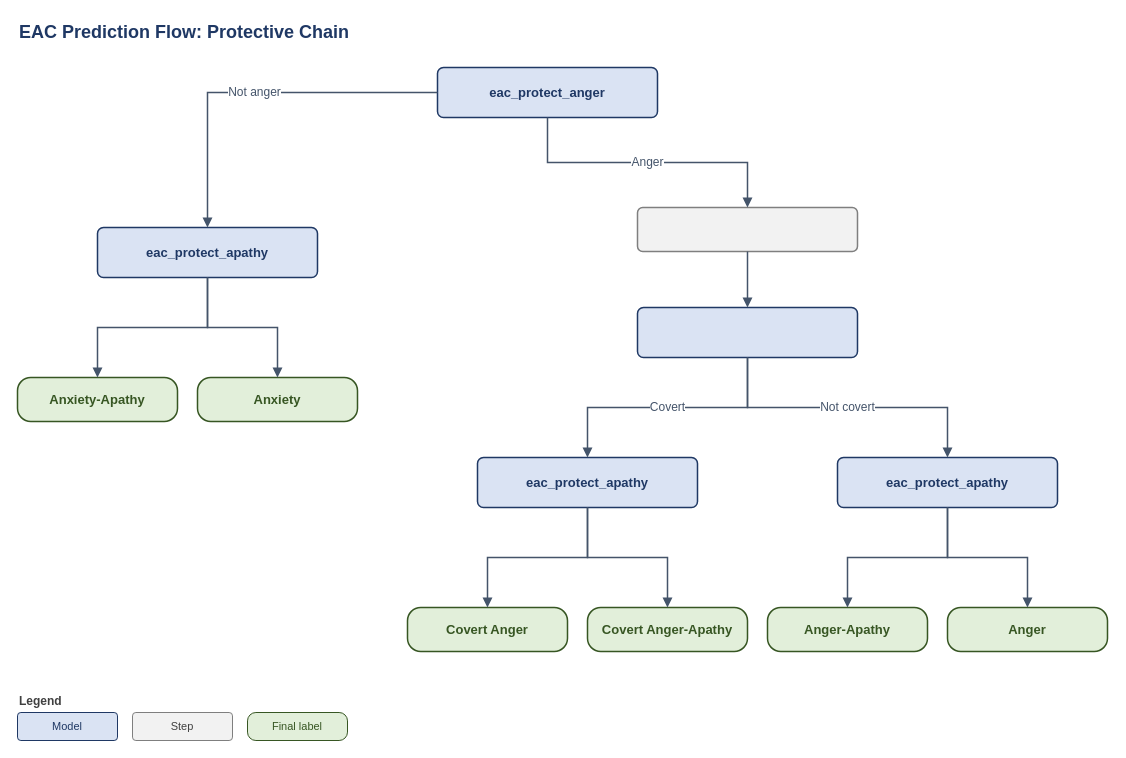
Image size: 1126x758. Some labels were removed from this diagram. Here are the shapes that lost their labels. From the top down, the box of each, then its label:
(636, 206, 858, 252): Inject covert scores
(636, 306, 858, 358): eac_protect_covert
